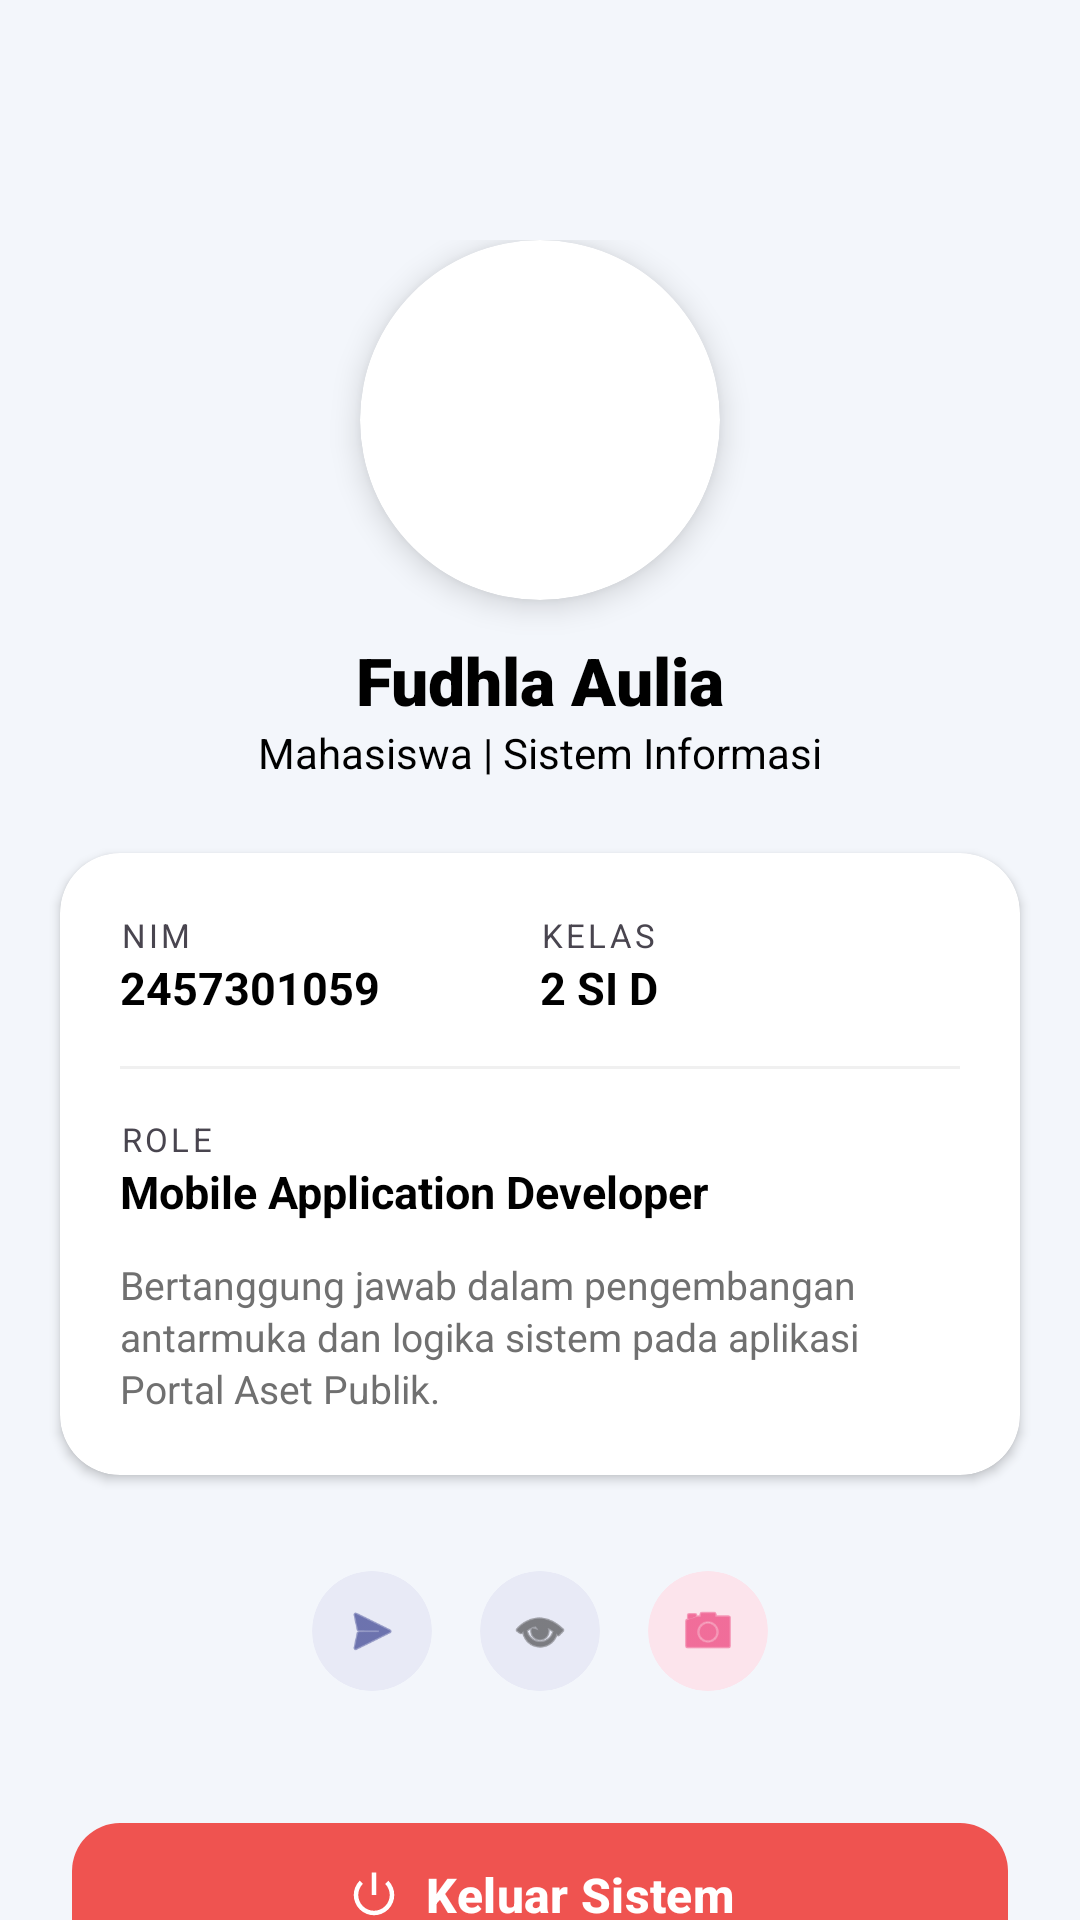

Icon click points for this 1080px×1920px phone screenshot, format point (x, y):
camera: point (708, 1630)
send: point (372, 1631)
view: point (540, 1632)
